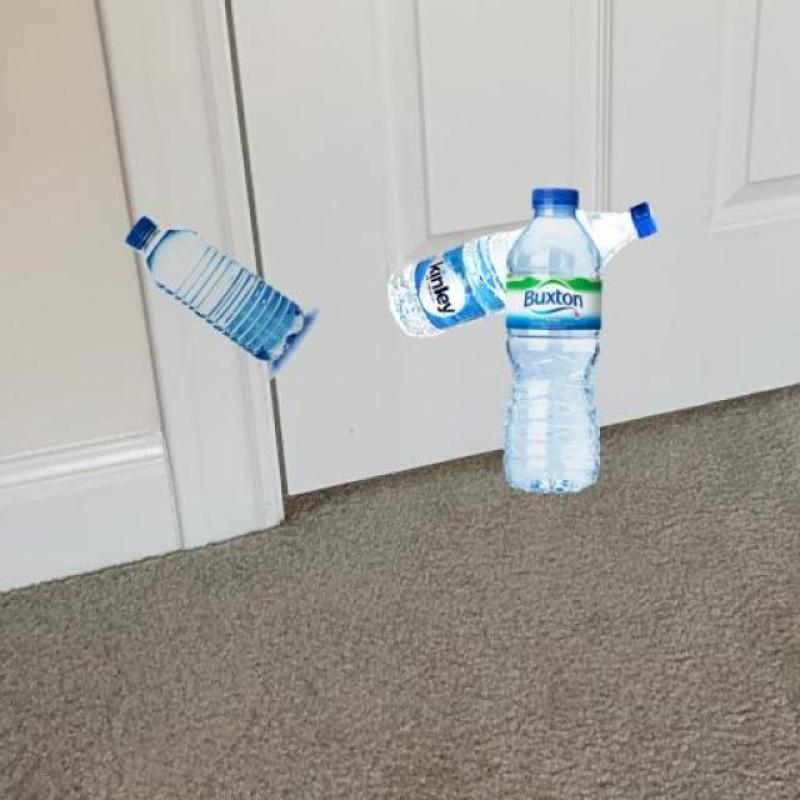botella: (385, 201, 660, 338), (508, 188, 602, 493), (123, 215, 305, 365)
